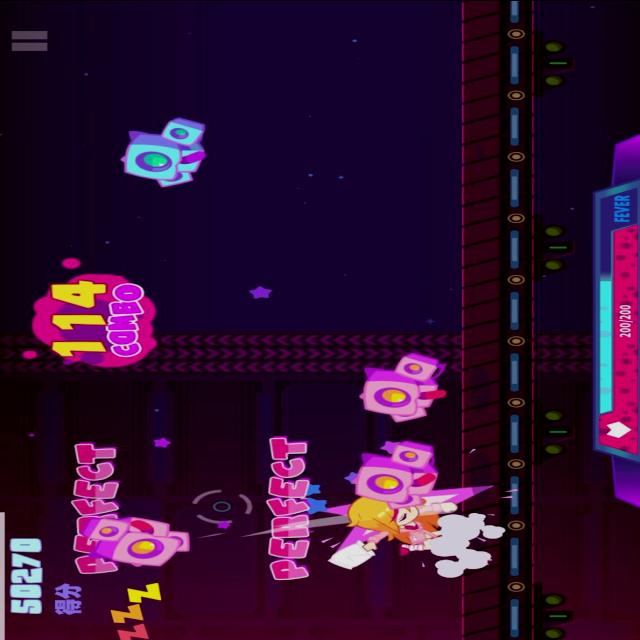jiqi: (343, 438, 447, 512), (352, 348, 452, 423), (114, 111, 210, 188), (80, 514, 194, 566)
